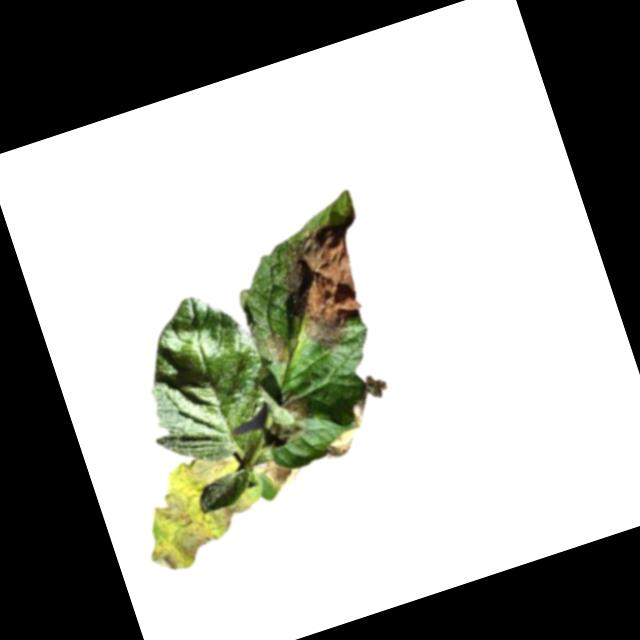Late_blight: (125, 442, 273, 577), (270, 211, 396, 359), (251, 450, 306, 498), (274, 382, 319, 425), (261, 323, 296, 371), (321, 426, 363, 462), (347, 393, 375, 428), (361, 369, 391, 400)
healthy: (117, 282, 286, 477)
